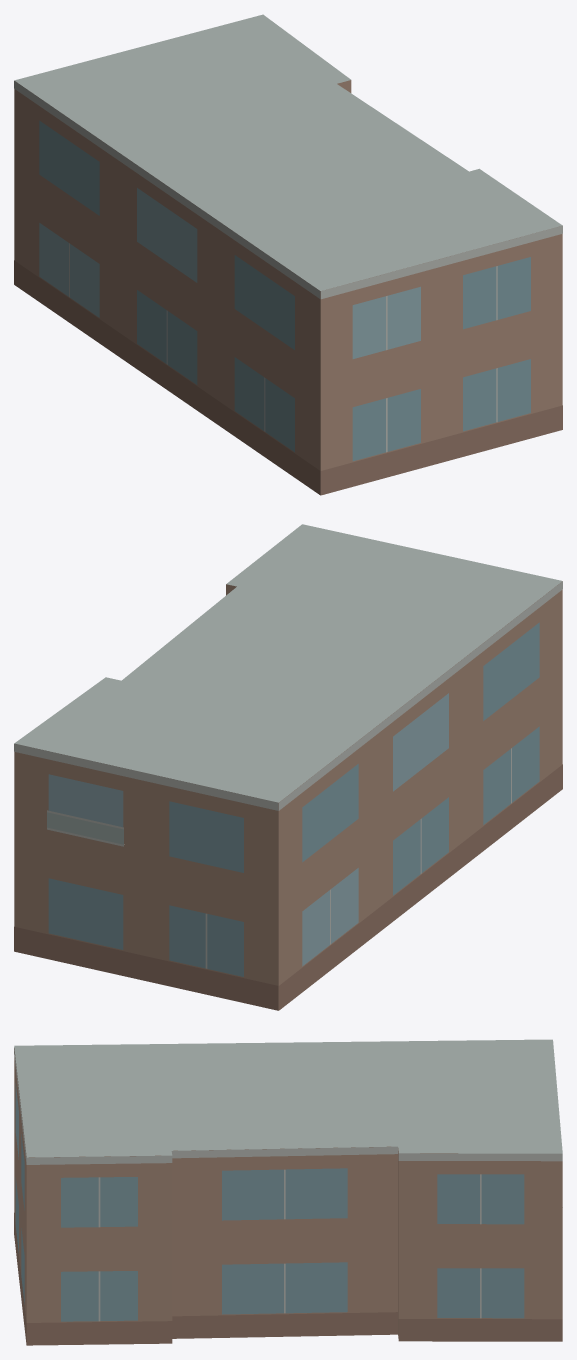
File: survey-upis-32665739.glb
The picture shows the model from 3 angles, top to bottom: view 1: azimuth 30°, elevation 25°; view 2: azimuth 150°, elevation 25°; view 3: azimuth 270°, elevation 25°; orthographic projection. The views are drawn at different scales.
Parts seen in each view (by area): view 1: survey-upis-32665739.tmp; view 2: survey-upis-32665739.tmp; view 3: survey-upis-32665739.tmp.
Boxes of the visible parts, x1,y1,x2,y2 form: survey-upis-32665739.tmp: (14,14,562,495); survey-upis-32665739.tmp: (14,524,562,1010); survey-upis-32665739.tmp: (14,1039,562,1345).
Size of the model in its own units: 8.23 by 6.1 by 16.15.
